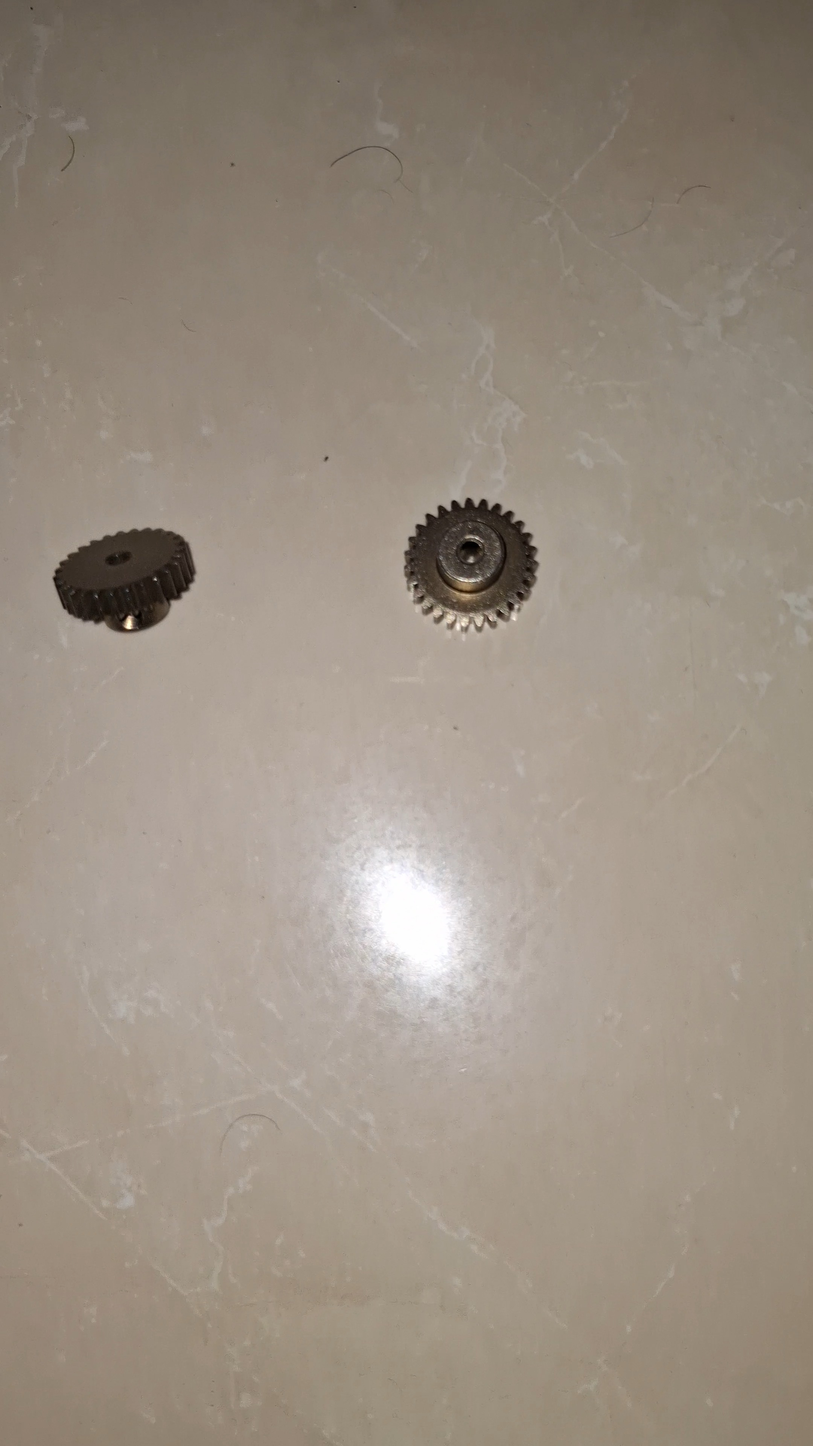spur gear: (405, 499, 537, 630), (54, 529, 194, 631)
